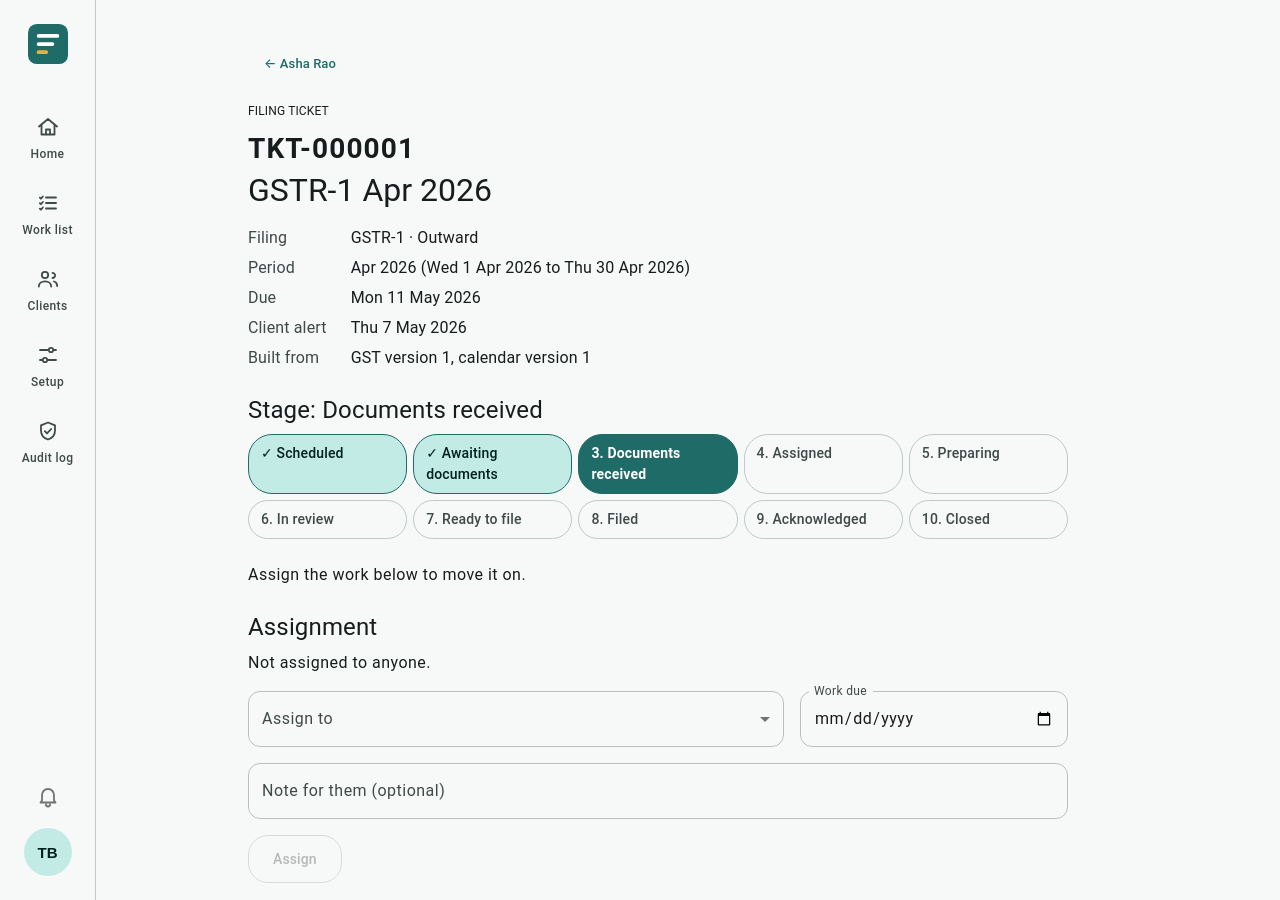
Test case: Assignment panel › assigns the work with a due date and a note
Expected: the text "Not assigned to anyone." is shown, [248,653,431,672]
Click the dropdown named "Assign to" at (516,719), box [248,691,784,747]
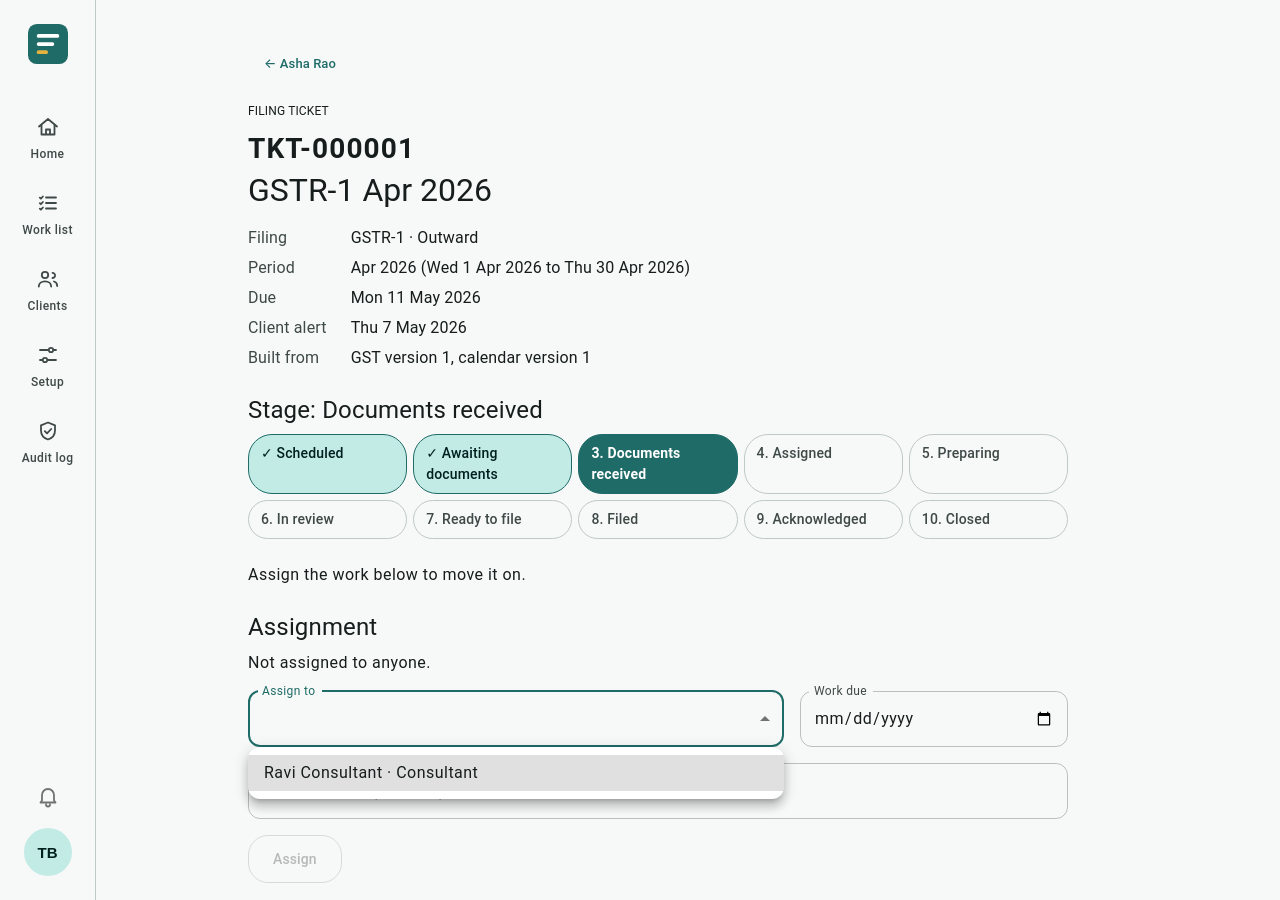
Click the option "Ravi Consultant · Consultant" at (323,772), box [248,755,784,791]
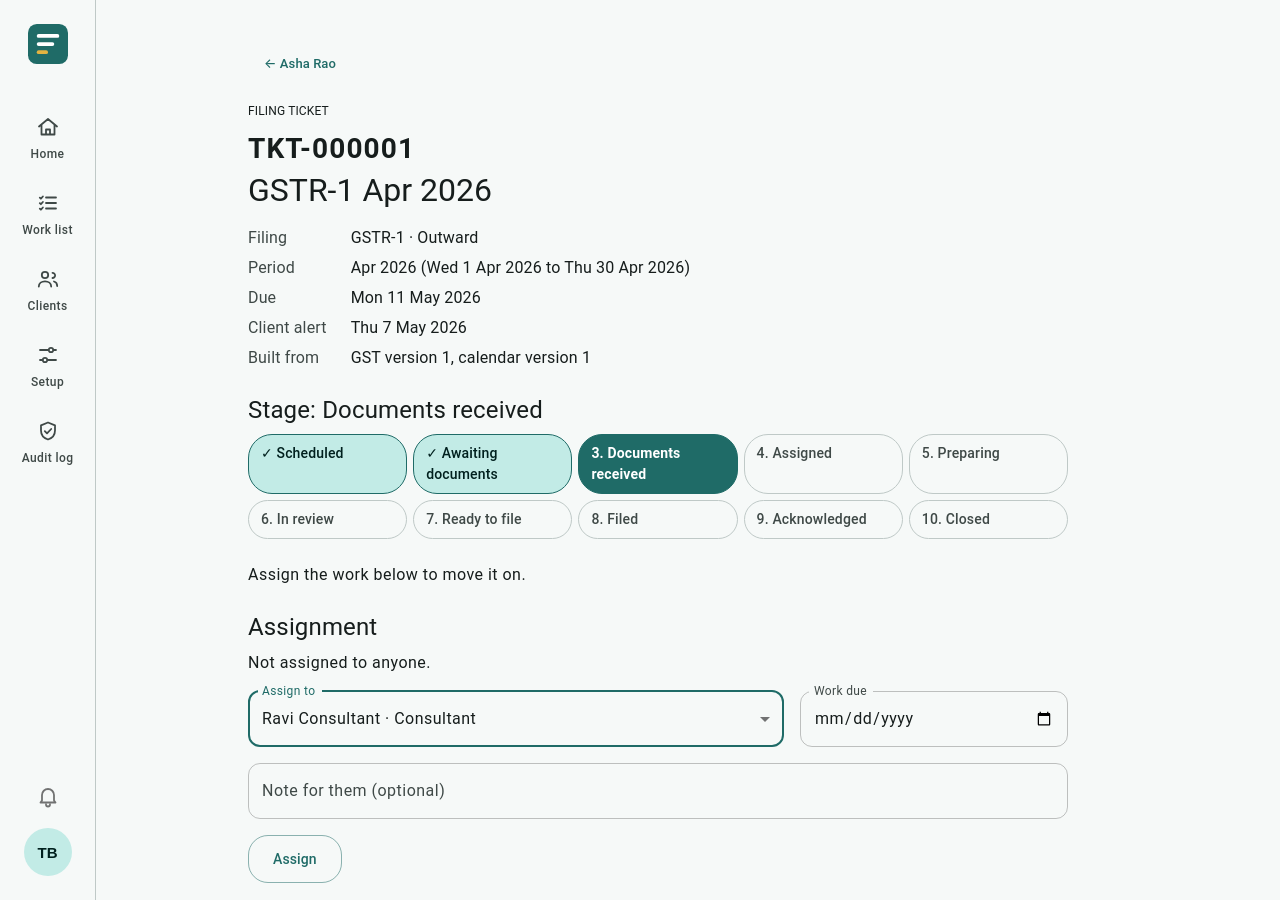
Type "2026-05-08" into the date field labelled "Work due" at (934,719), box [800,691,1068,747]
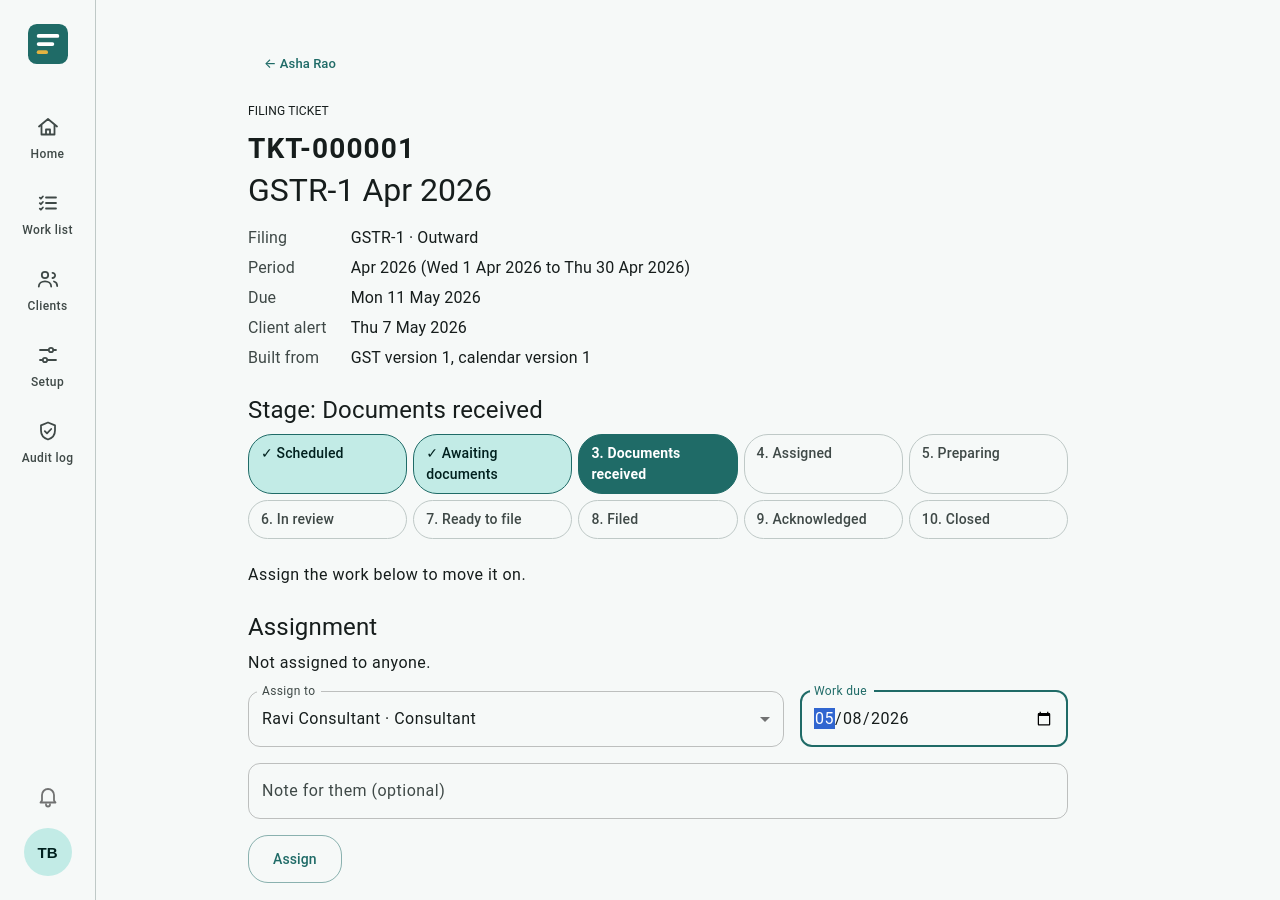
Type "Prepare it" into the field labelled "Note for them (optional)" at (658,791), box [248,763,1068,819]
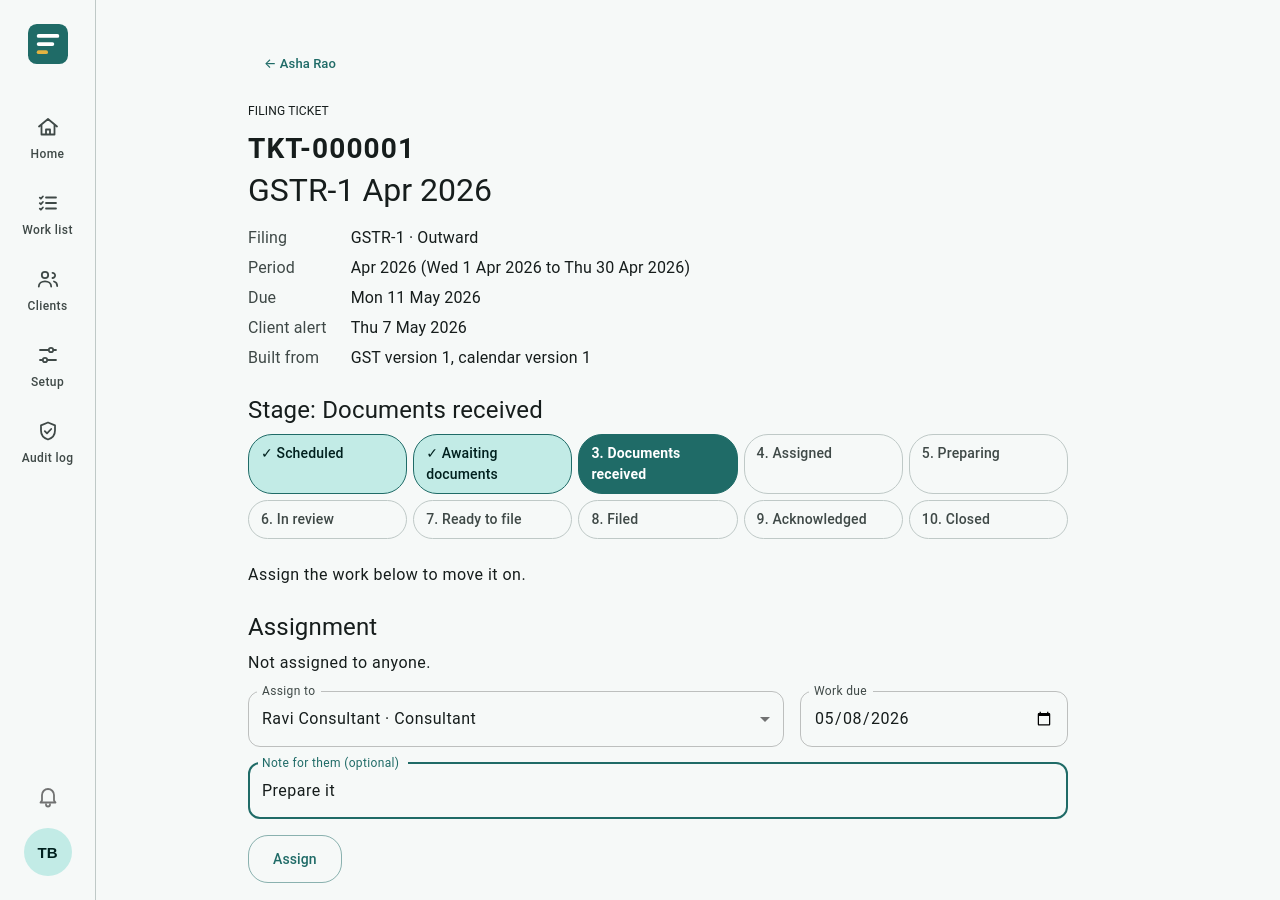
Click the button "Assign" at (295,859), box [248,835,342,883]
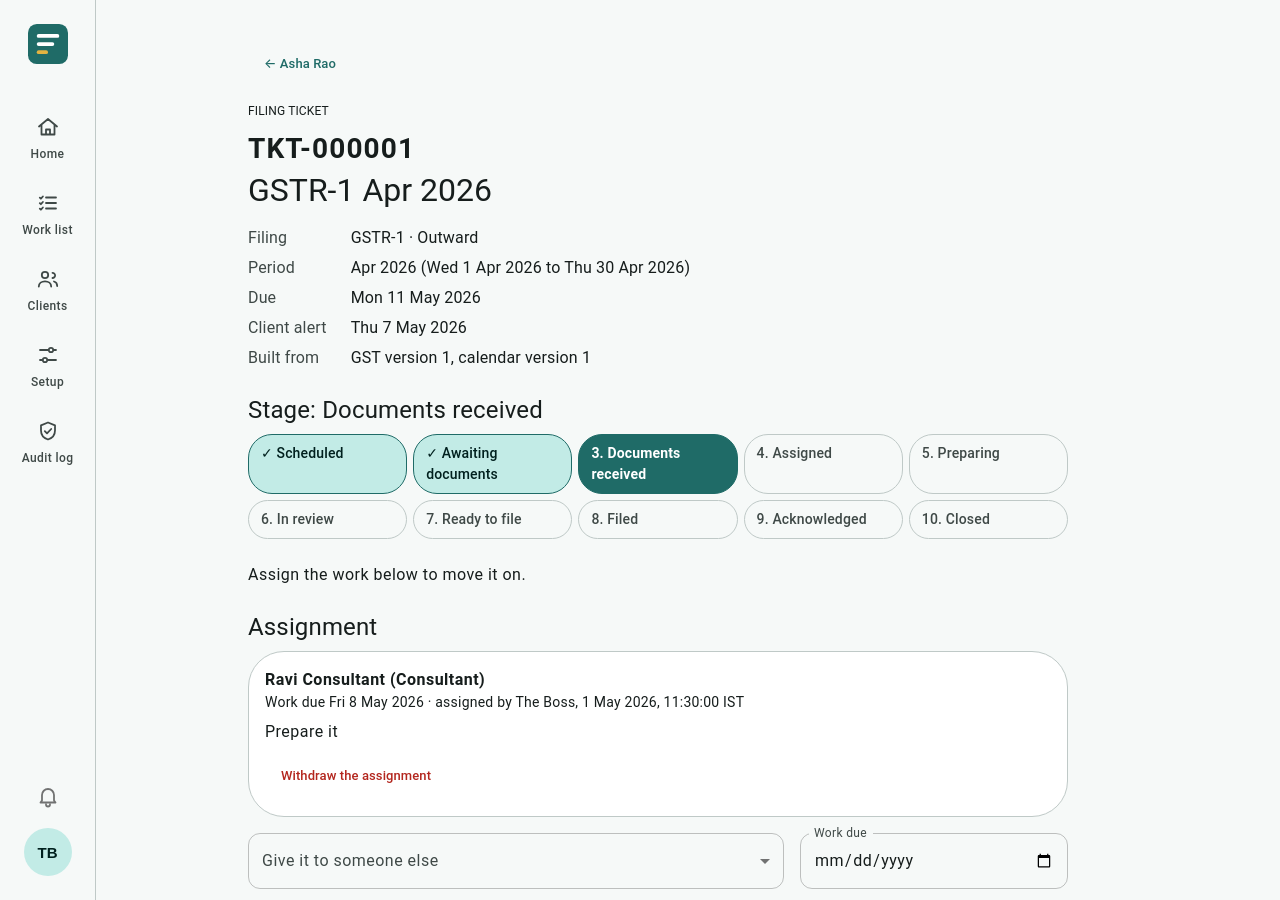
Now the element with test id "current-assignment" shows "Ravi Consultant (Consultant)", box [248,651,1068,817]
